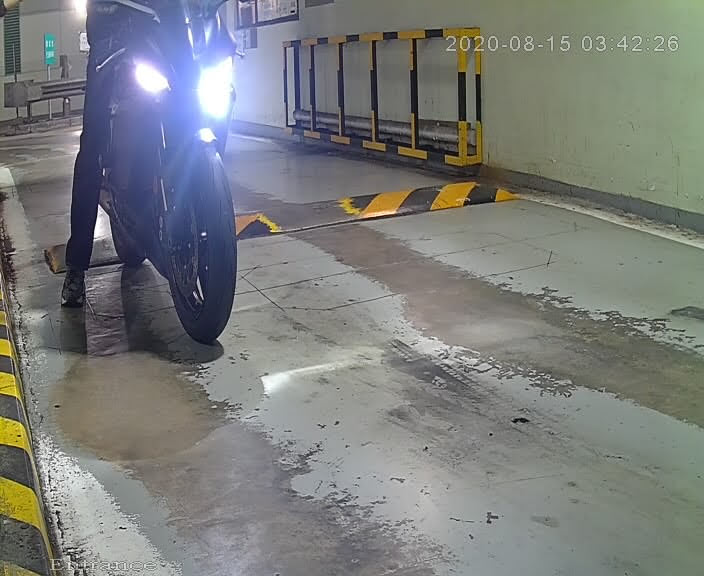motorcycle: (34, 1, 261, 374)
